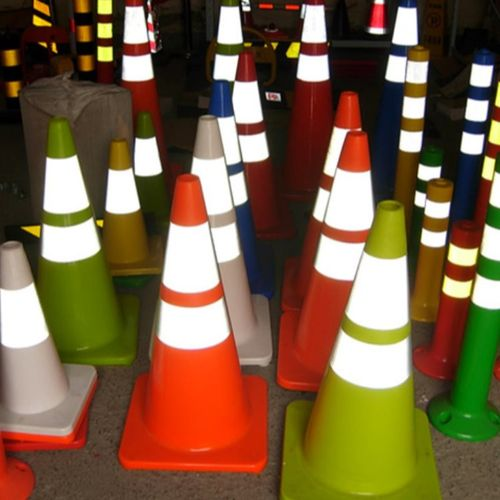traffic_cone: (131, 174, 276, 479)
